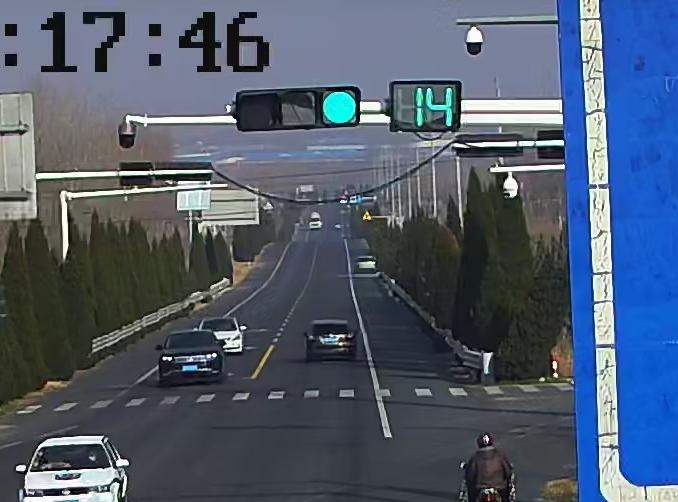green: (322, 87, 357, 125)
greentime: (415, 84, 459, 130)
